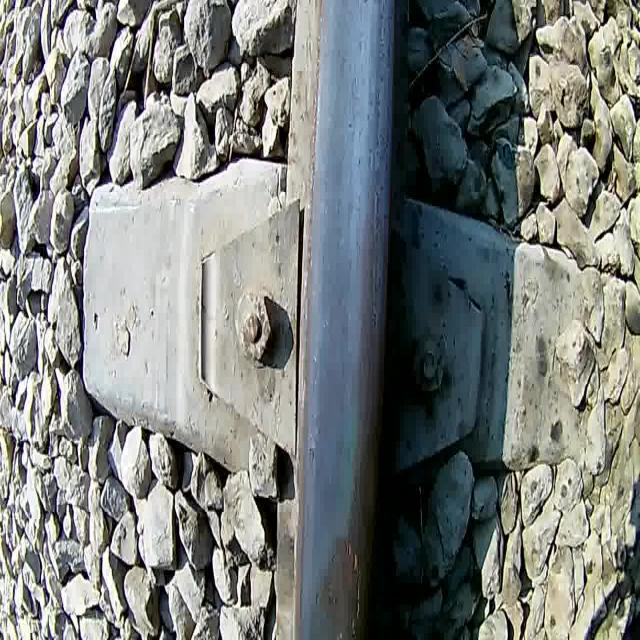Squats: (310, 528, 365, 640)
